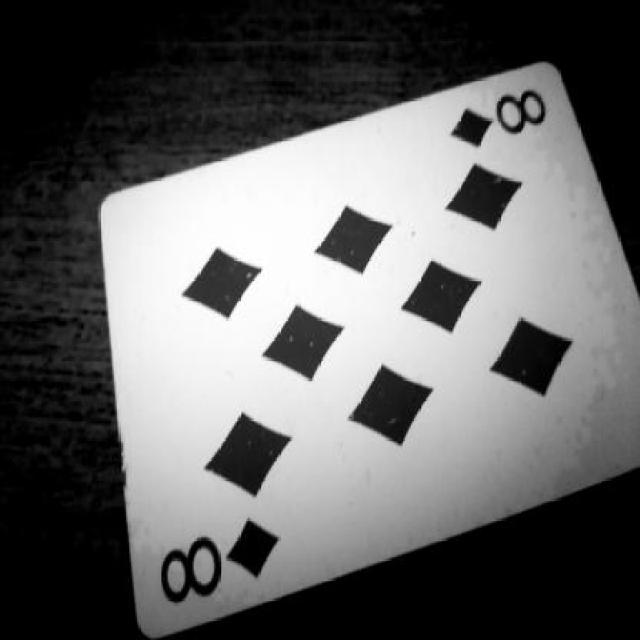8D: (149, 506, 291, 616), (427, 71, 568, 172)
